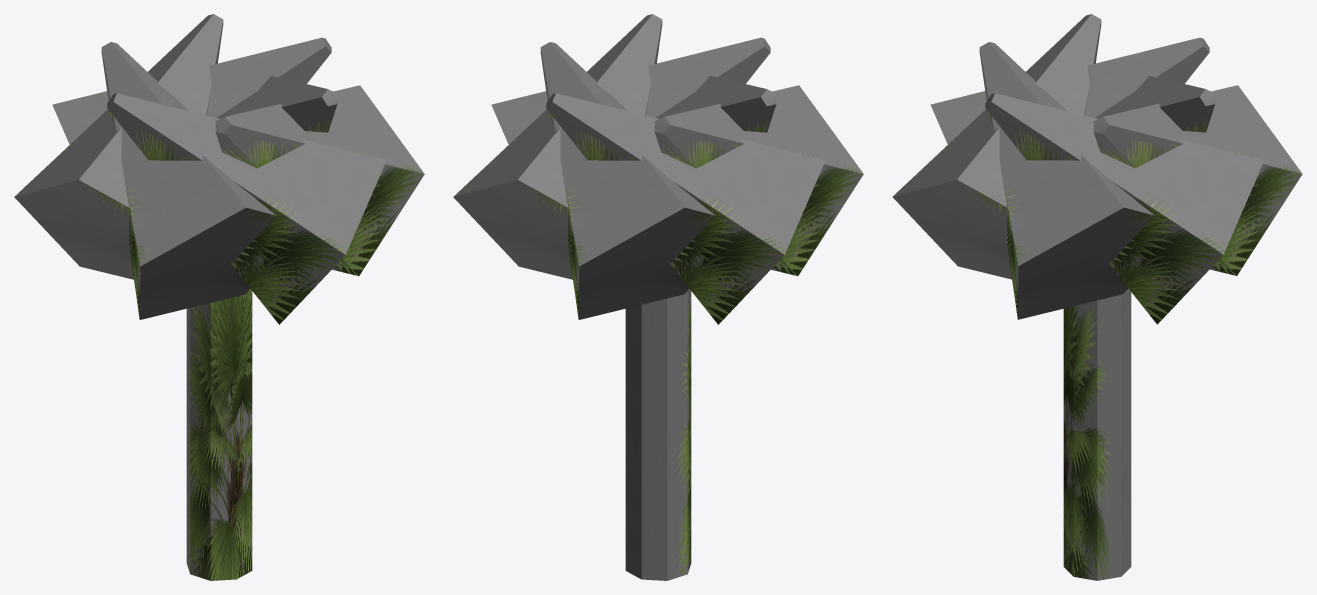
File: palm_tree.glb
3 renders of one model, left to right at view 1: azimuth 30°, elevation 25°; view 2: azimuth 150°, elevation 25°; view 3: azimuth 270°, elevation 25°, orthographic.
Visible parts, largest first — view 1: Cylinder; view 2: Cylinder; view 3: Cylinder.
Boxes of the visible parts, box(x1,y1,x2,y2) form: Cylinder: box(14, 14, 424, 580); Cylinder: box(453, 14, 863, 580); Cylinder: box(892, 14, 1302, 580).
Size of the model in its own units: 2.04 by 2.94 by 2.18.
1 material, 1 textured.
